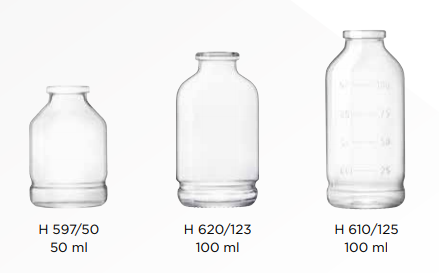glass_bottle: (323, 27, 408, 214), (173, 49, 264, 210), (26, 81, 112, 214)
